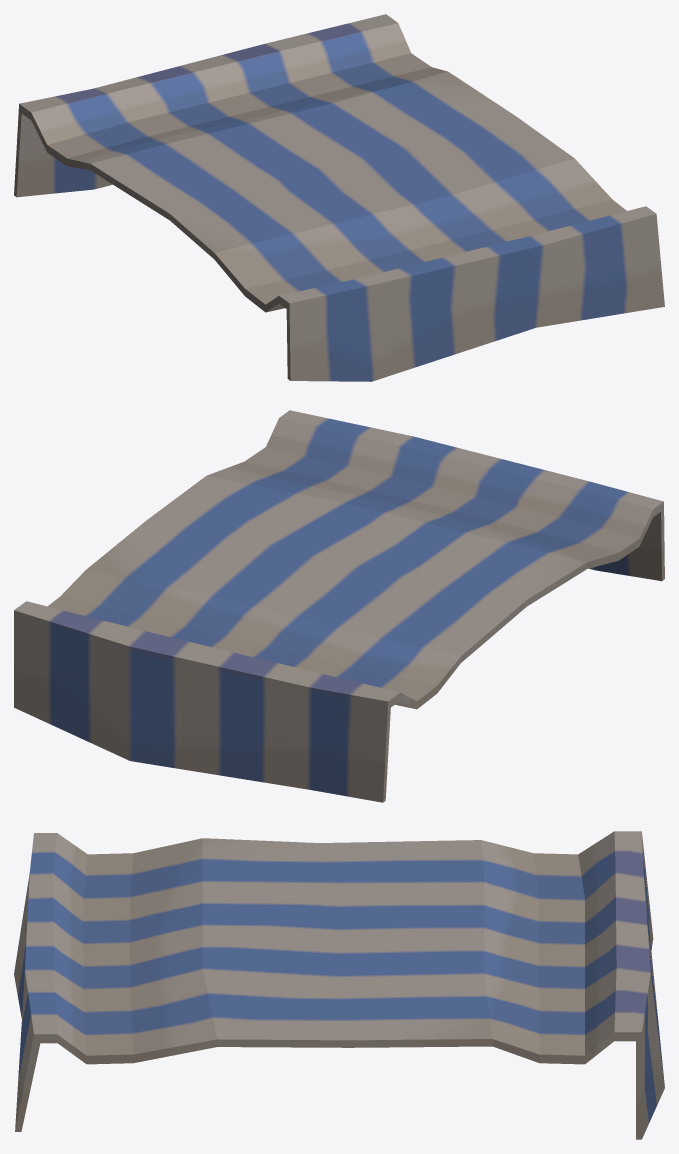
File: SM_Bld_Village_ClothCover_Large_Cloth_01.glb
The picture shows the model from 3 angles, top to bottom: view 1: azimuth 30°, elevation 25°; view 2: azimuth 150°, elevation 25°; view 3: azimuth 270°, elevation 25°; orthographic projection. The views are drawn at different scales.
Parts seen in each view (by area): view 1: SM_Bld_Village_ClothCover_Large_Cloth_01; view 2: SM_Bld_Village_ClothCover_Large_Cloth_01; view 3: SM_Bld_Village_ClothCover_Large_Cloth_01.
Boxes of the visible parts, <box> form: SM_Bld_Village_ClothCover_Large_Cloth_01: <box>14,14,664,381</box>; SM_Bld_Village_ClothCover_Large_Cloth_01: <box>14,410,664,802</box>; SM_Bld_Village_ClothCover_Large_Cloth_01: <box>14,831,664,1139</box>.
Size of the model in its own units: 3.57 by 1.02 by 4.88.
Materials: 1 (1 with a texture image).
